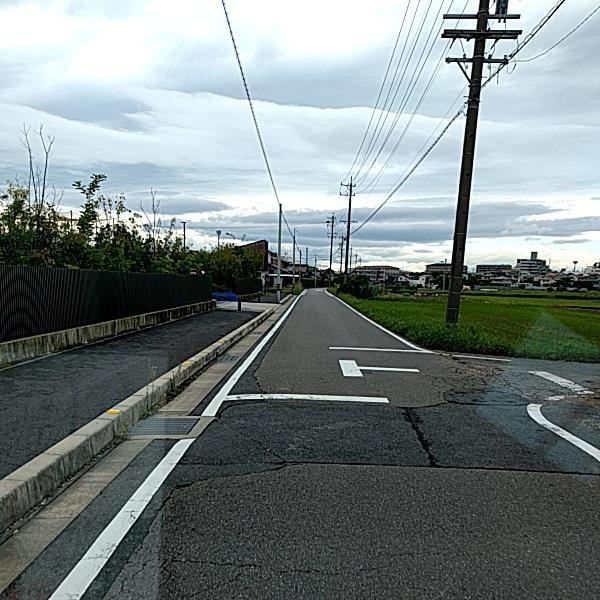D20: (114, 543, 389, 599), (437, 356, 551, 405)
